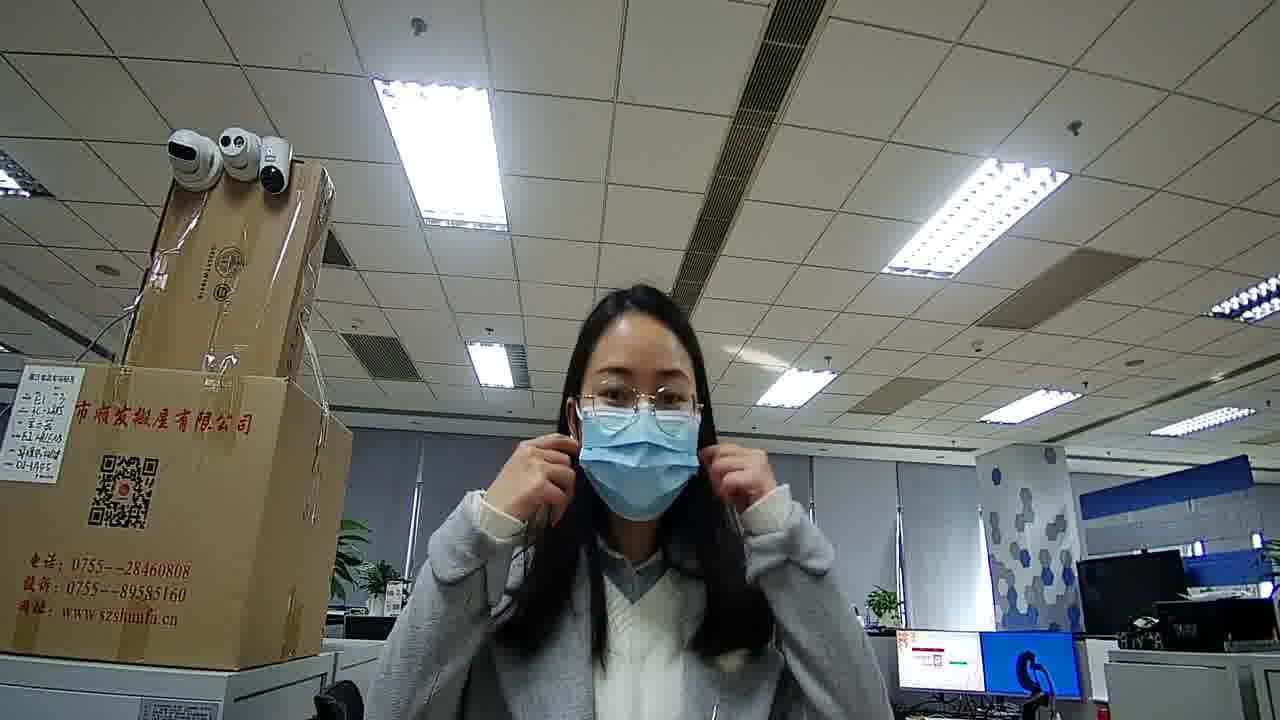face: (555, 318, 722, 512)
mask: (573, 403, 701, 516)
person: (397, 286, 849, 655)
